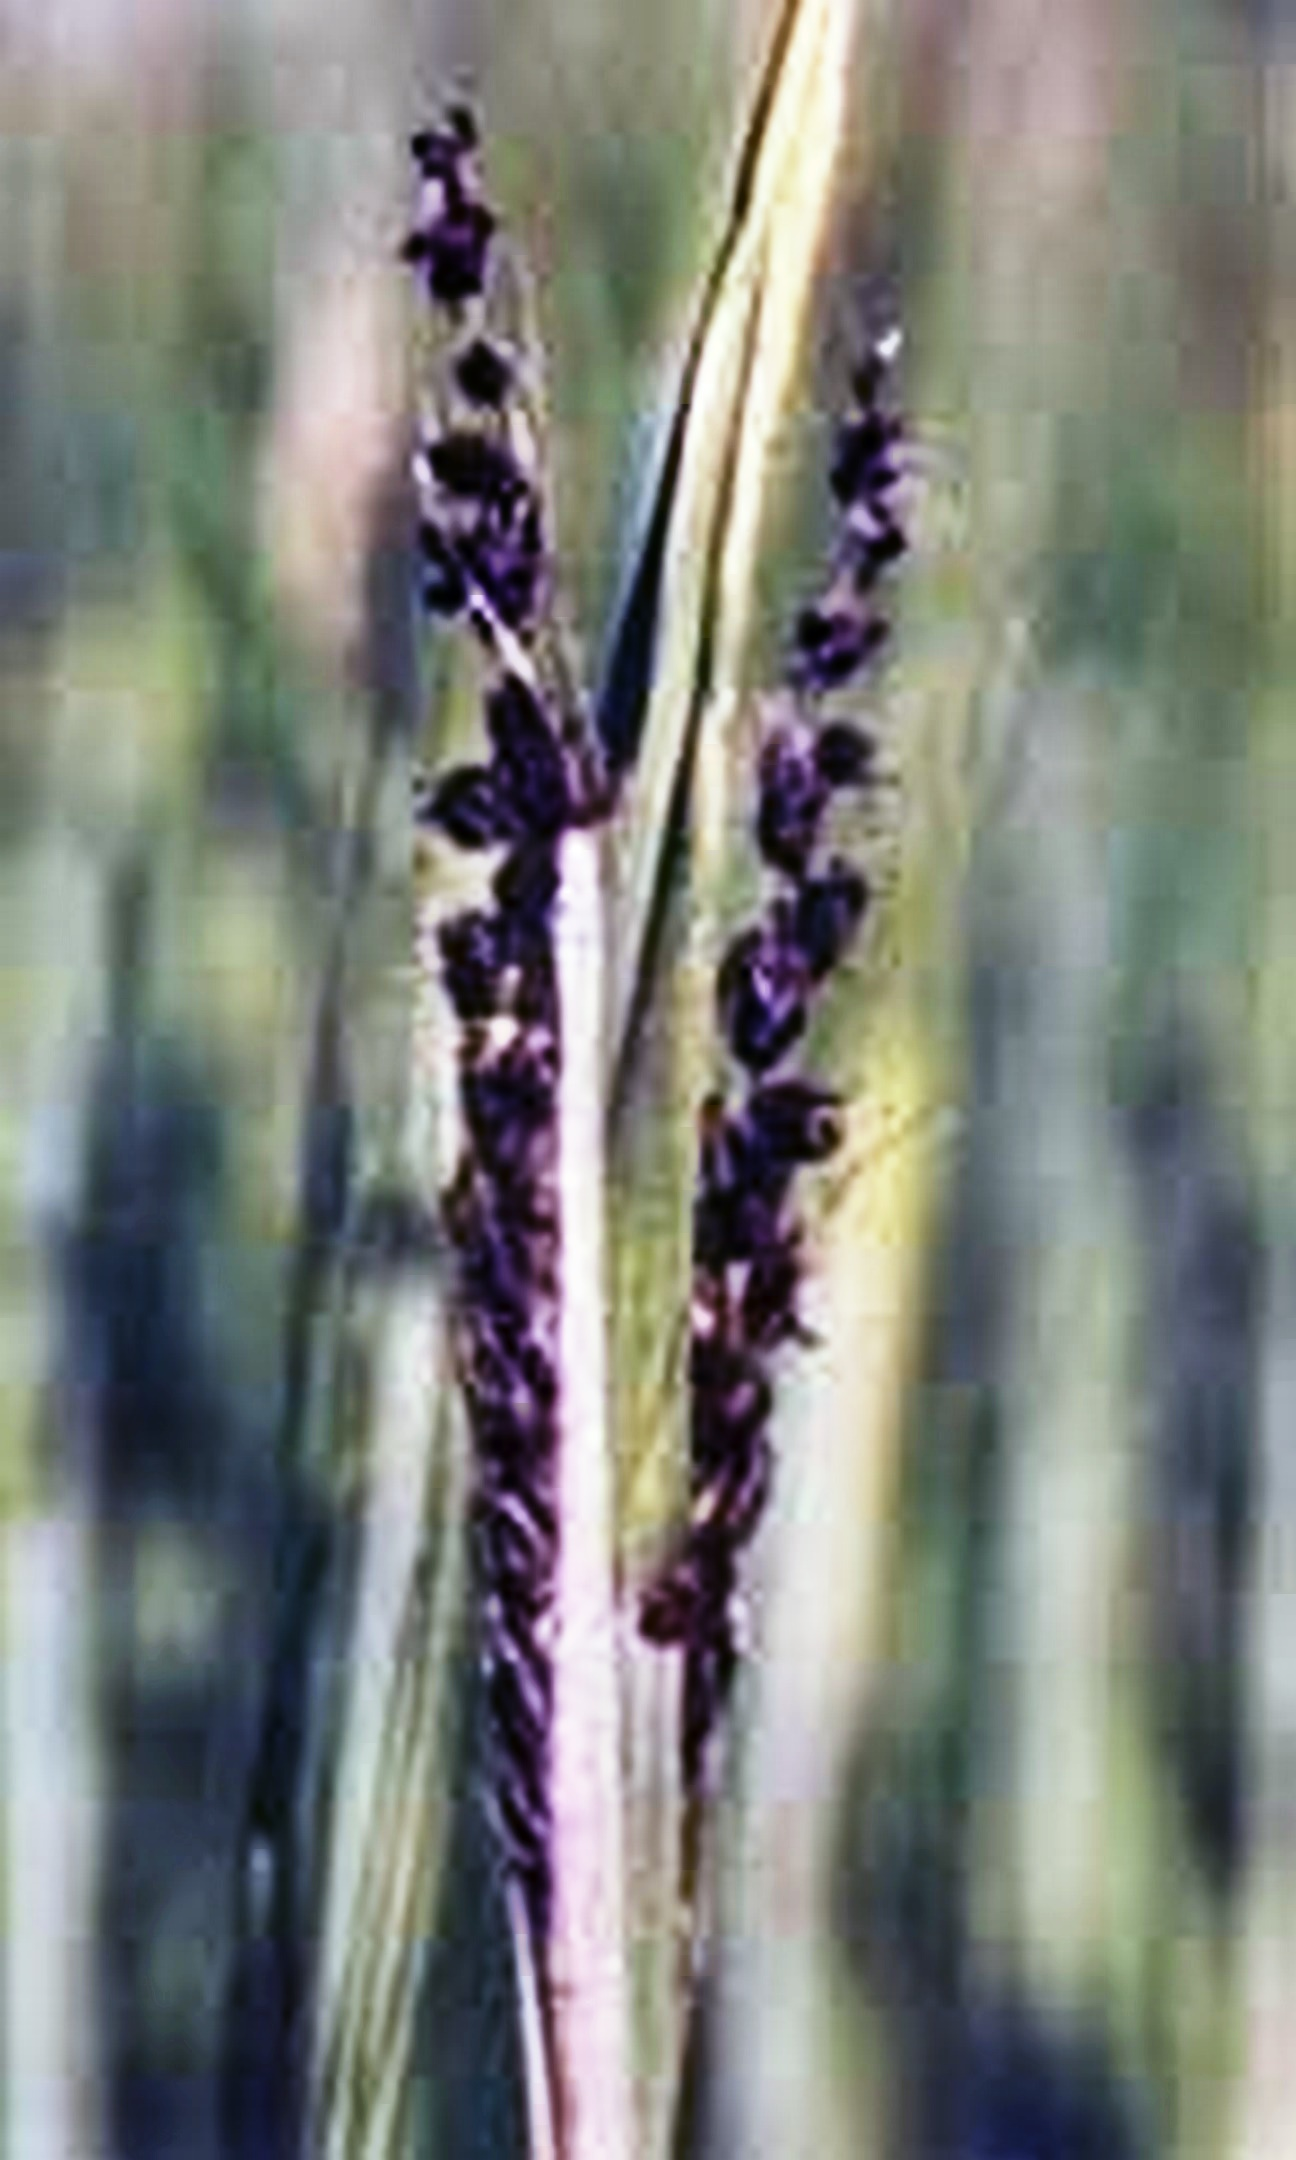Wheat Loose Smut: (363, 133, 927, 1682)
